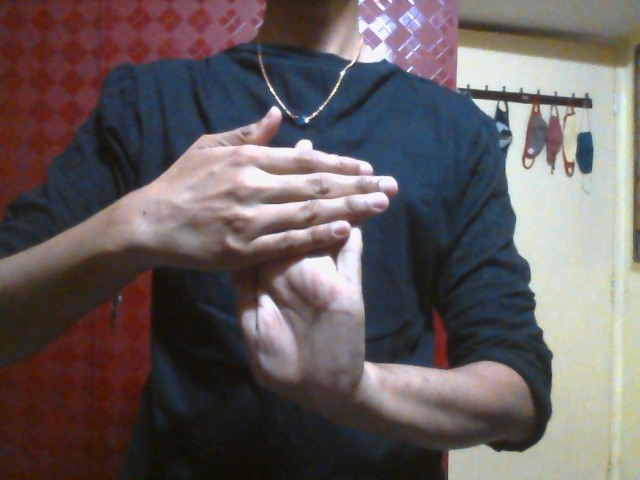H: (165, 105, 399, 404)
